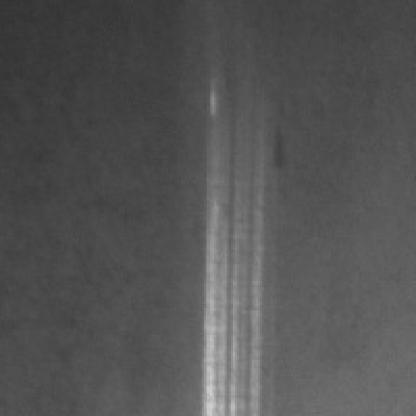scratches: (206, 94, 273, 416)
